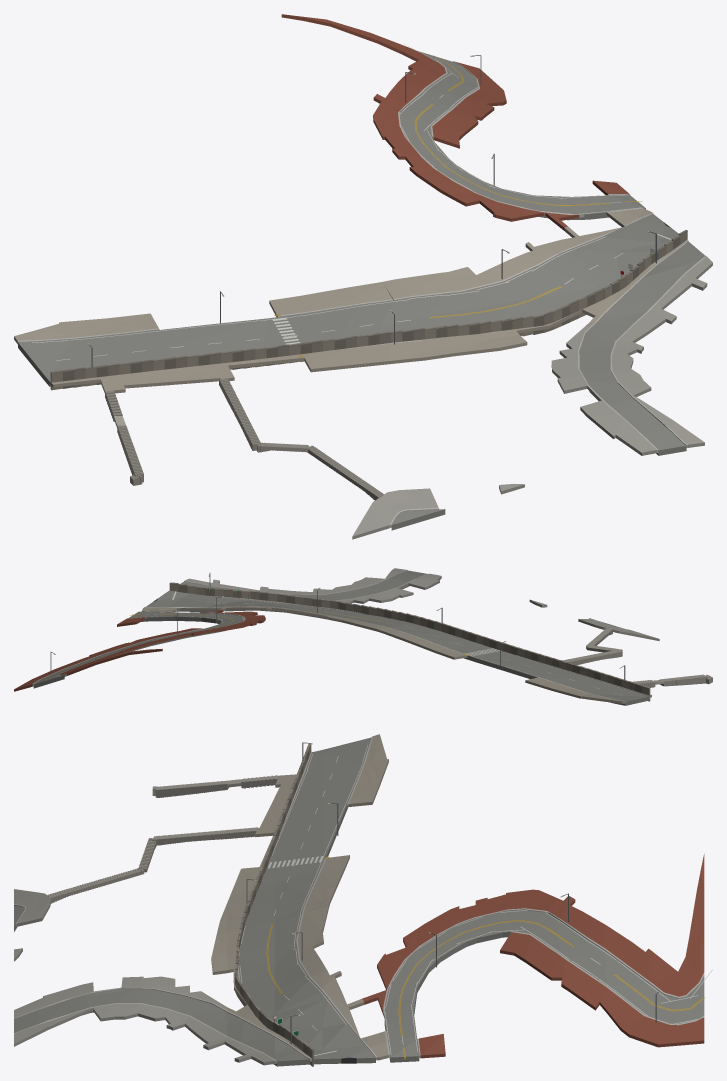
3 renders of one model, top to bottom at view 1: azimuth 30°, elevation 25°; view 2: azimuth 150°, elevation 25°; view 3: azimuth 270°, elevation 25°, orthographic. The views are drawn at different scales.
Size of the model in its own units: 148 by 40.94 by 148.
